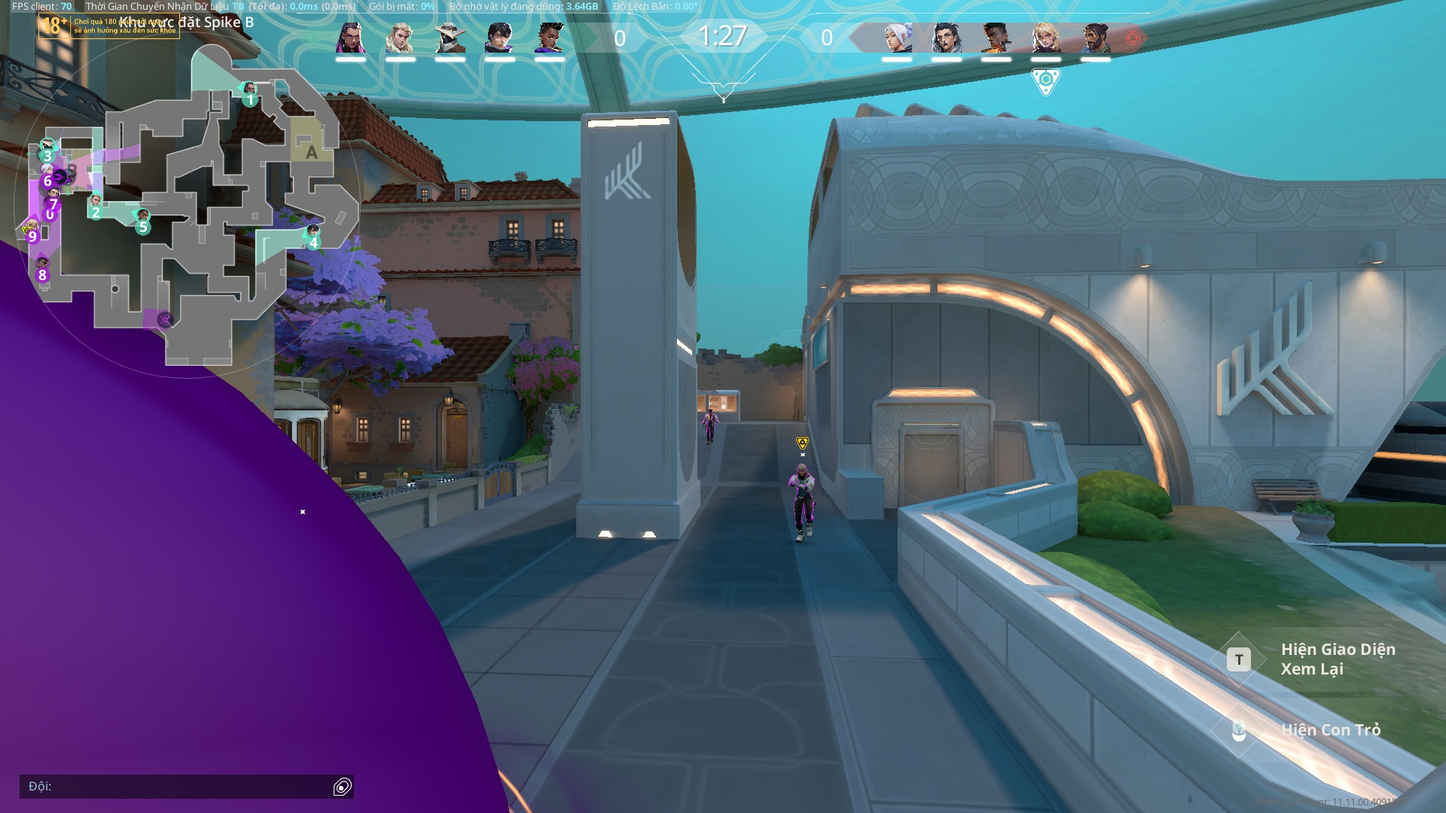body: (788, 472, 817, 494), (705, 412, 718, 425)
head: (797, 461, 808, 476), (708, 408, 712, 415)
